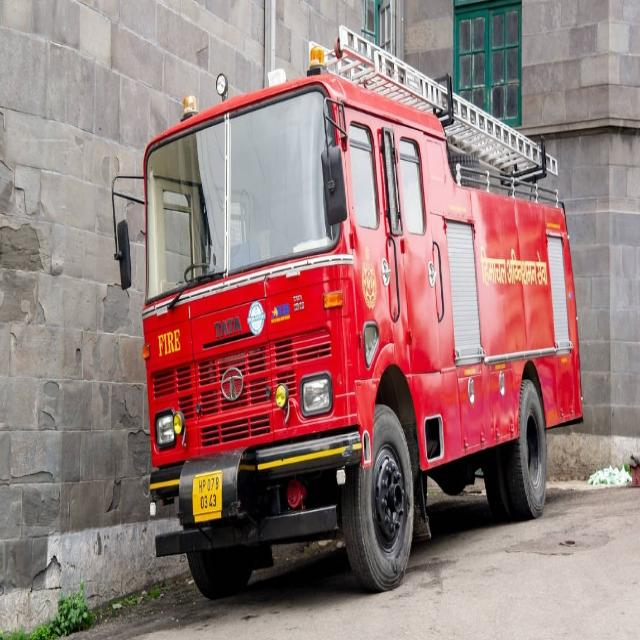emergency: (140, 30, 584, 596)
